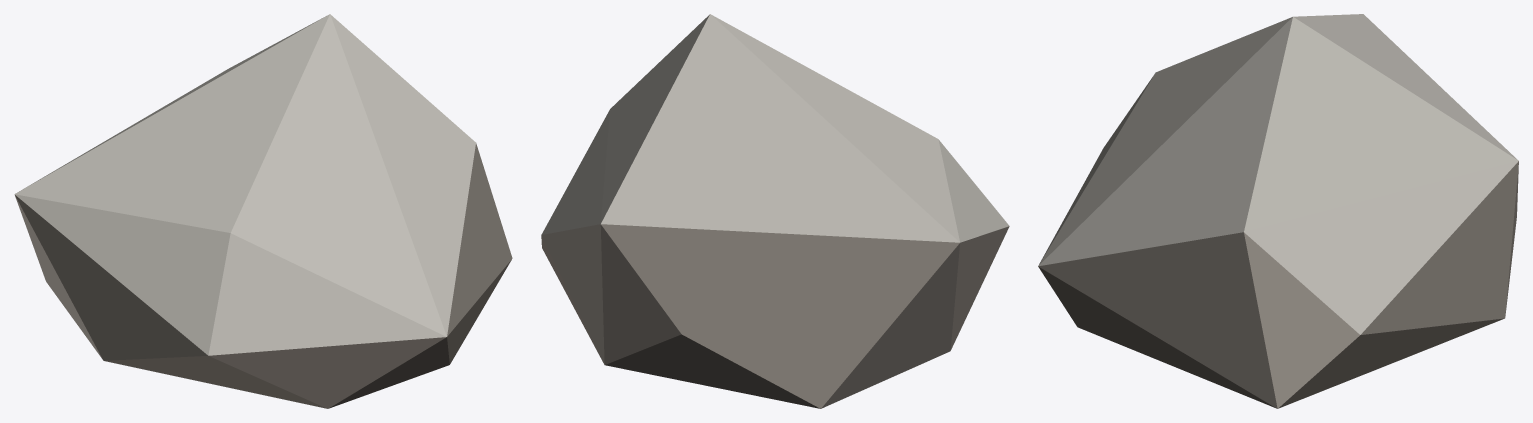
The model's file is Rock_S_A.fbx.
3 renders of one model, left to right at view 1: azimuth 30°, elevation 25°; view 2: azimuth 150°, elevation 25°; view 3: azimuth 270°, elevation 25°, orthographic. The views are drawn at different scales.
Parts seen in each view (by area): view 1: Rock_S_A; view 2: Rock_S_A; view 3: Rock_S_A.
Part boxes in pixels (x1,y1,x2,y2): Rock_S_A: (14, 14, 512, 408); Rock_S_A: (541, 14, 1009, 408); Rock_S_A: (1038, 14, 1518, 408).
Size of the model in its own units: 1.35 by 0.82 by 1.15.
